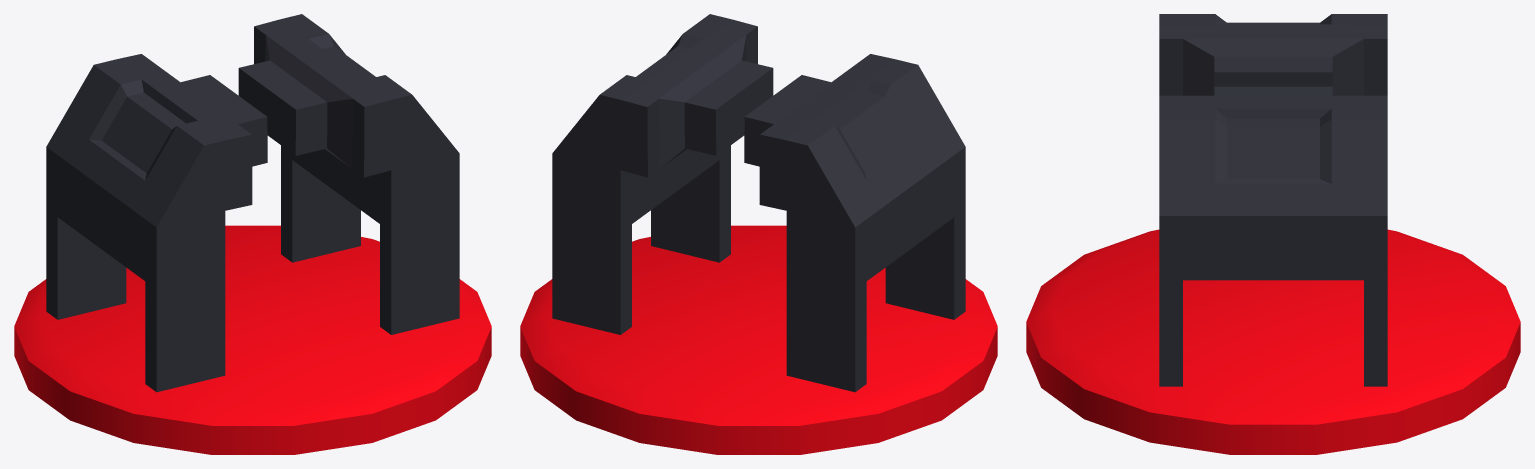
Rendered from Key_Node_Red.fbx.
The picture shows the model from 3 angles, left to right: view 1: azimuth 30°, elevation 25°; view 2: azimuth 150°, elevation 25°; view 3: azimuth 270°, elevation 25°; orthographic projection. The views are drawn at different scales.
Visible parts, largest first — view 1: Key_Node_Red; view 2: Key_Node_Red; view 3: Key_Node_Red.
Boxes of the visible parts, x1,y1,x2,y2 form: Key_Node_Red: [14, 14, 491, 454]; Key_Node_Red: [520, 14, 997, 454]; Key_Node_Red: [1026, 14, 1520, 454].
Size of the model in its own units: 42.28 by 27.35 by 42.93.
